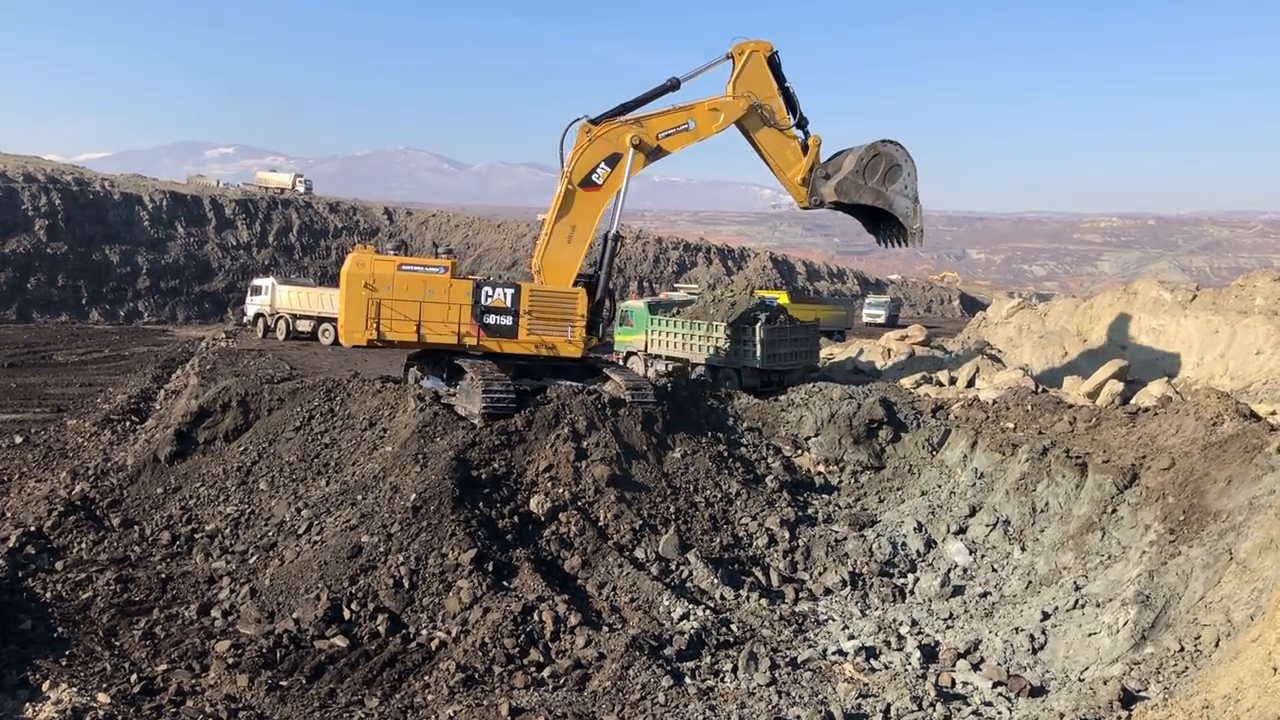empty: (810, 137, 933, 250)
